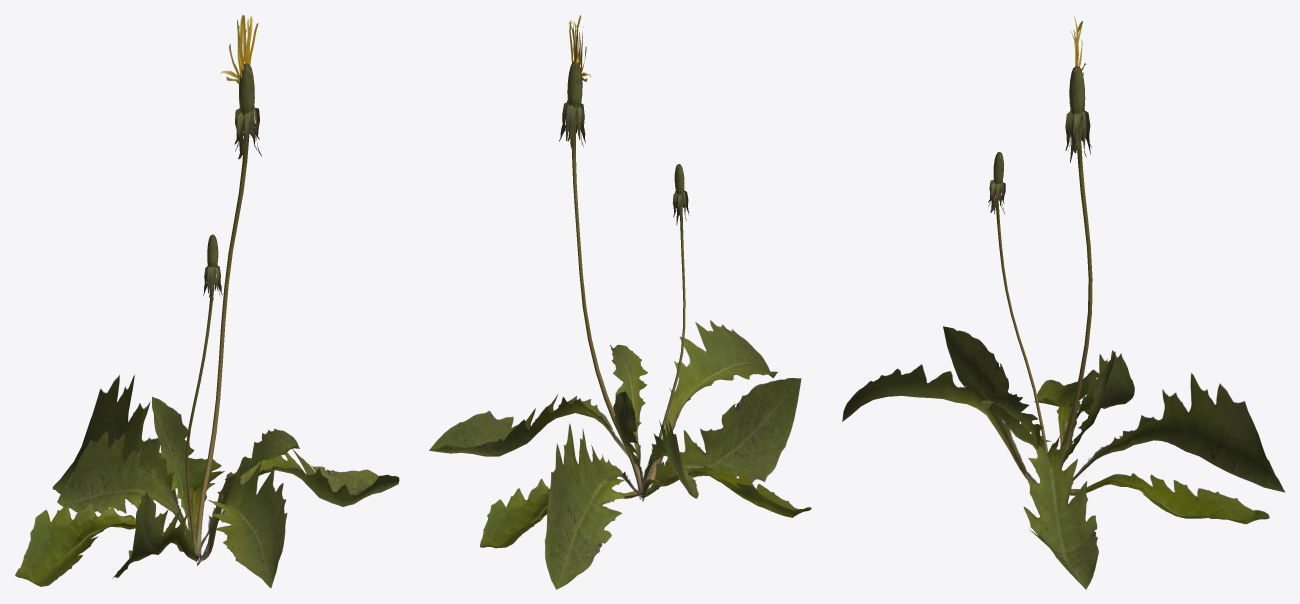
The model's file is dandelion_c.glb.
3 renders of one model, left to right at view 1: azimuth 30°, elevation 25°; view 2: azimuth 150°, elevation 25°; view 3: azimuth 270°, elevation 25°, orthographic. The views are drawn at different scales.
Parts seen in each view (by area): view 1: dandelion_01_c_LOD0.001; view 2: dandelion_01_c_LOD0.001; view 3: dandelion_01_c_LOD0.001.
Part boxes in pixels (left/top/right/bottom): dandelion_01_c_LOD0.001: left=15, top=15, right=399, bottom=587; dandelion_01_c_LOD0.001: left=429, top=15, right=811, bottom=589; dandelion_01_c_LOD0.001: left=842, top=16, right=1285, bottom=589.
Size of the model in its own units: 3.93 by 4.97 by 3.87.
Materials: 1 (1 with a texture image).
